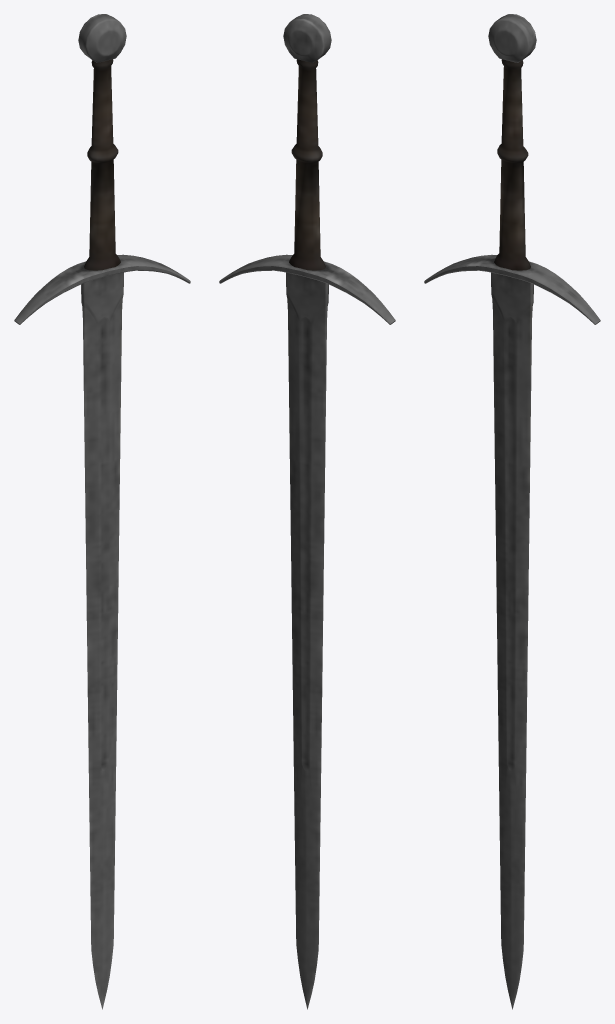
Rendered from weapon-wp_a_0600.glb.
3 views of the same model, side by side, from view 1: azimuth 30°, elevation 25°; view 2: azimuth 150°, elevation 25°; view 3: azimuth 330°, elevation 25° (orthographic).
Visible parts, largest first — view 1: wp_a_0600_mesh; view 2: wp_a_0600_mesh; view 3: wp_a_0600_mesh.
Boxes of the visible parts, bbox=[...] form: wp_a_0600_mesh: bbox=[14, 14, 190, 1009]; wp_a_0600_mesh: bbox=[219, 14, 395, 1009]; wp_a_0600_mesh: bbox=[424, 14, 600, 1009].
Size of the model in its own units: 0.2721 by 1.5 by 0.0431.
Materials: 1 (1 with a texture image).
